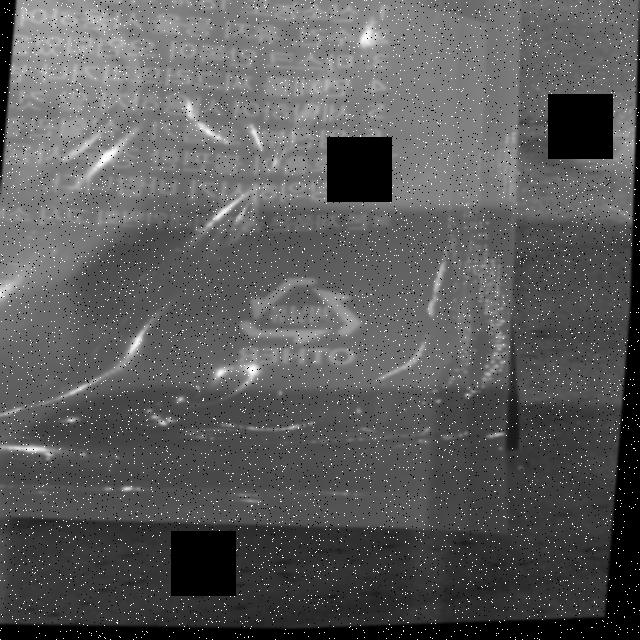Vinyl: (233, 268, 382, 354)
